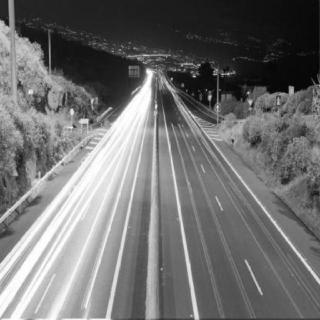other: (137, 66, 177, 112)
